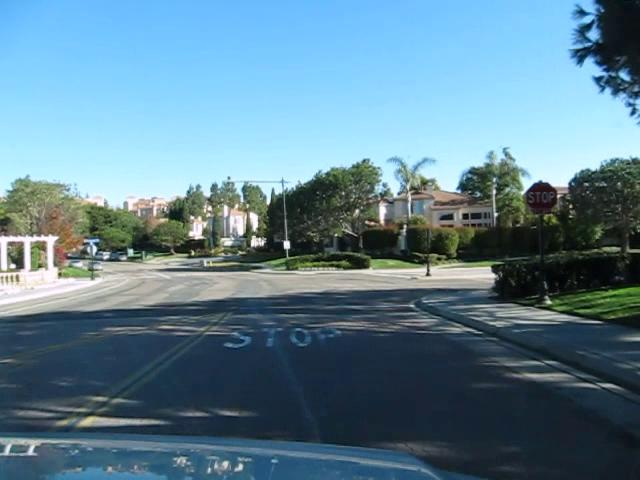stop: (524, 181, 557, 215)
